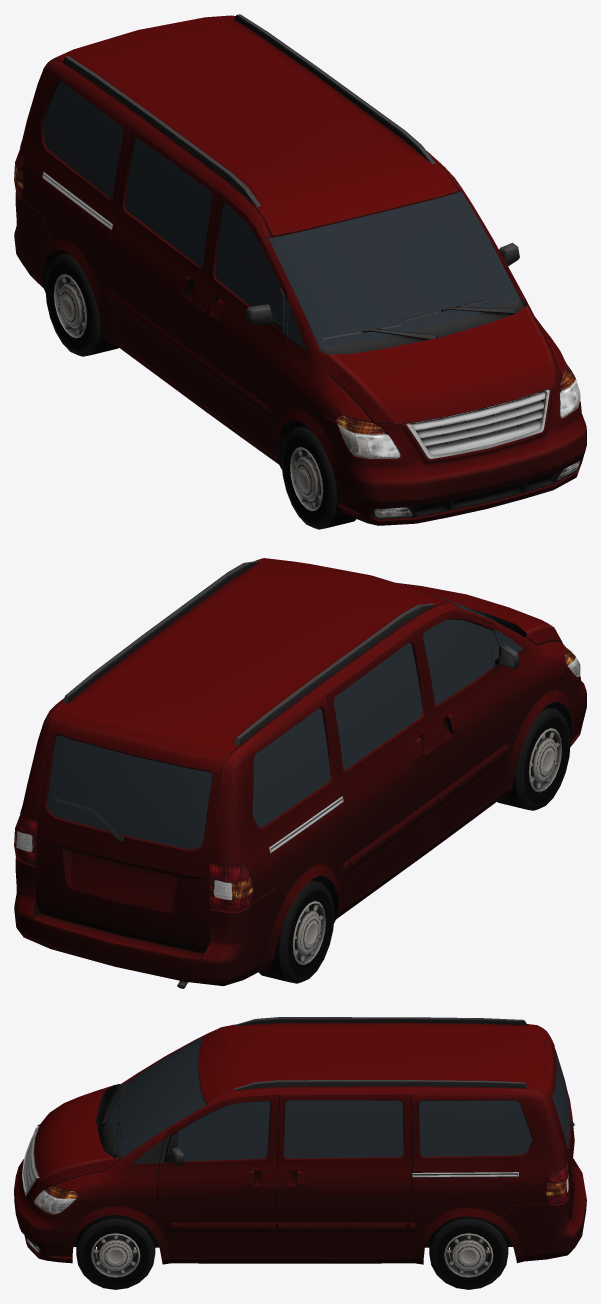
The model's file is car_minivan.gltf.
The picture shows the model from 3 angles, top to bottom: view 1: azimuth 30°, elevation 25°; view 2: azimuth 150°, elevation 25°; view 3: azimuth 270°, elevation 25°; orthographic projection. The views are drawn at different scales.
Visible parts, largest first — view 1: car_minivan; view 2: car_minivan; view 3: car_minivan.
Part boxes in pixels (x1=…): car_minivan: x1=14, y1=14, x2=586, y2=529; car_minivan: x1=14, y1=558, x2=586, y2=988; car_minivan: x1=14, y1=1017, x2=586, y2=1289.
Size of the model in its own units: 1.95 by 1.84 by 4.8.
Materials: 1 (1 with a texture image).
